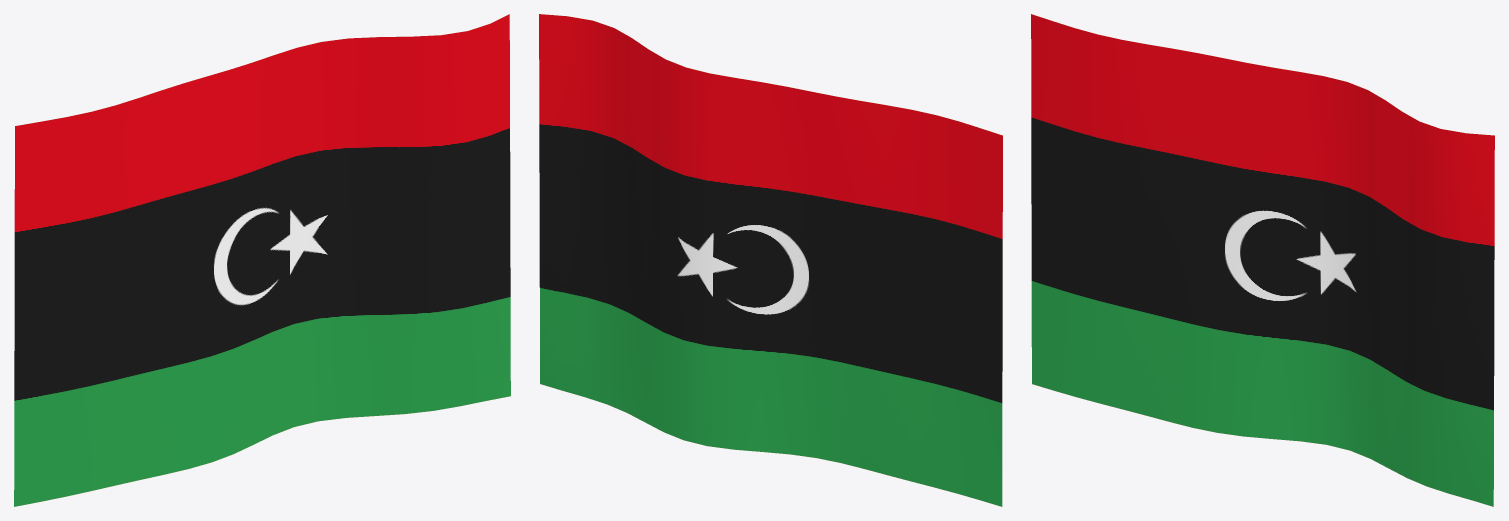
The model's file is LY_Libya.glb.
3 renders of one model, left to right at view 1: azimuth 30°, elevation 25°; view 2: azimuth 150°, elevation 25°; view 3: azimuth 330°, elevation 25°, orthographic. The views are drawn at different scales.
Parts seen in each view (by area): view 1: LY_flag; view 2: LY_flag; view 3: LY_flag.
Part boxes in pixels (x1,y1,x2,y2): LY_flag: (14,14,510,506); LY_flag: (539,14,1002,506); LY_flag: (1031,14,1494,506).
Size of the model in its own units: 1.33 by 1 by 0.1347.
1 material, 1 textured.
